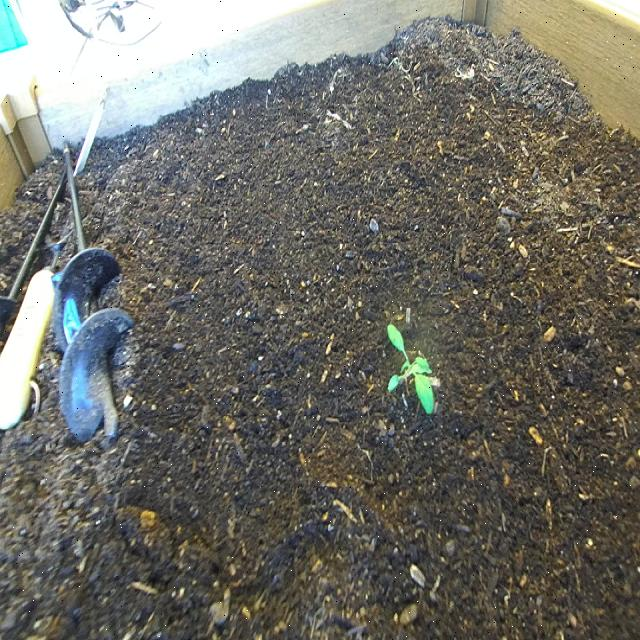Healthy: (379, 312, 444, 436)
